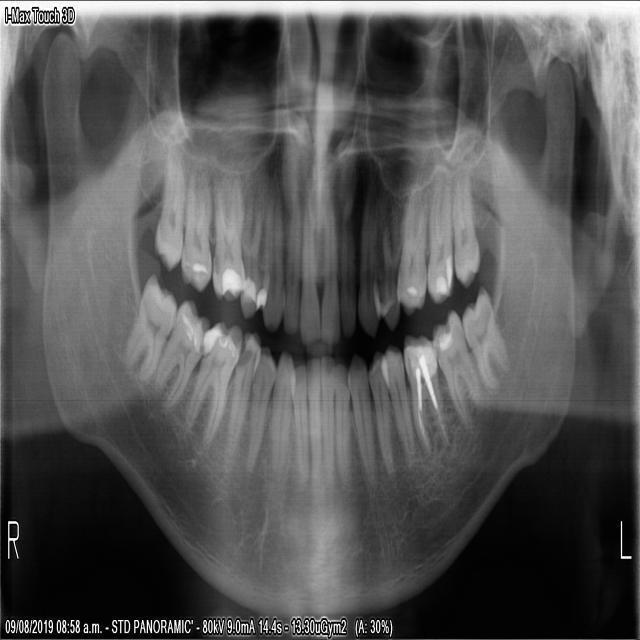LCD: (343, 350, 376, 491)
LCU: (354, 176, 379, 339)
LID: (331, 359, 349, 505), (318, 351, 333, 505)
LIU: (317, 210, 338, 346), (337, 202, 355, 339)
LMD: (429, 305, 484, 435), (399, 331, 449, 456), (458, 281, 509, 388)
LMU: (423, 167, 452, 306), (449, 168, 479, 287)
LPMD: (377, 341, 412, 471), (364, 347, 394, 483)
LPMU: (369, 174, 400, 333), (392, 177, 424, 316)
RCD: (267, 348, 295, 492)
RCU: (257, 173, 283, 332)
RID: (286, 358, 309, 491), (303, 353, 320, 495)
RIU: (296, 201, 319, 348), (280, 200, 298, 336)
RMD: (182, 317, 241, 451), (148, 294, 208, 412), (122, 269, 176, 380)
RMU: (209, 167, 243, 302), (176, 163, 210, 292), (150, 150, 182, 272)
RPMD: (220, 324, 259, 483), (241, 346, 274, 485)
RPMU: (236, 169, 270, 323)
